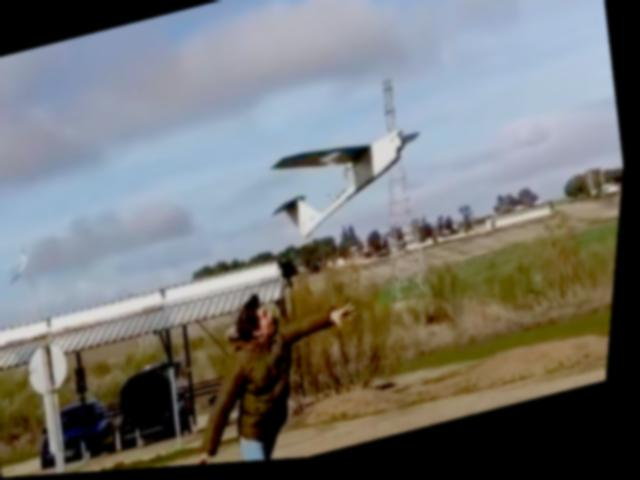iha: (253, 122, 441, 254)
